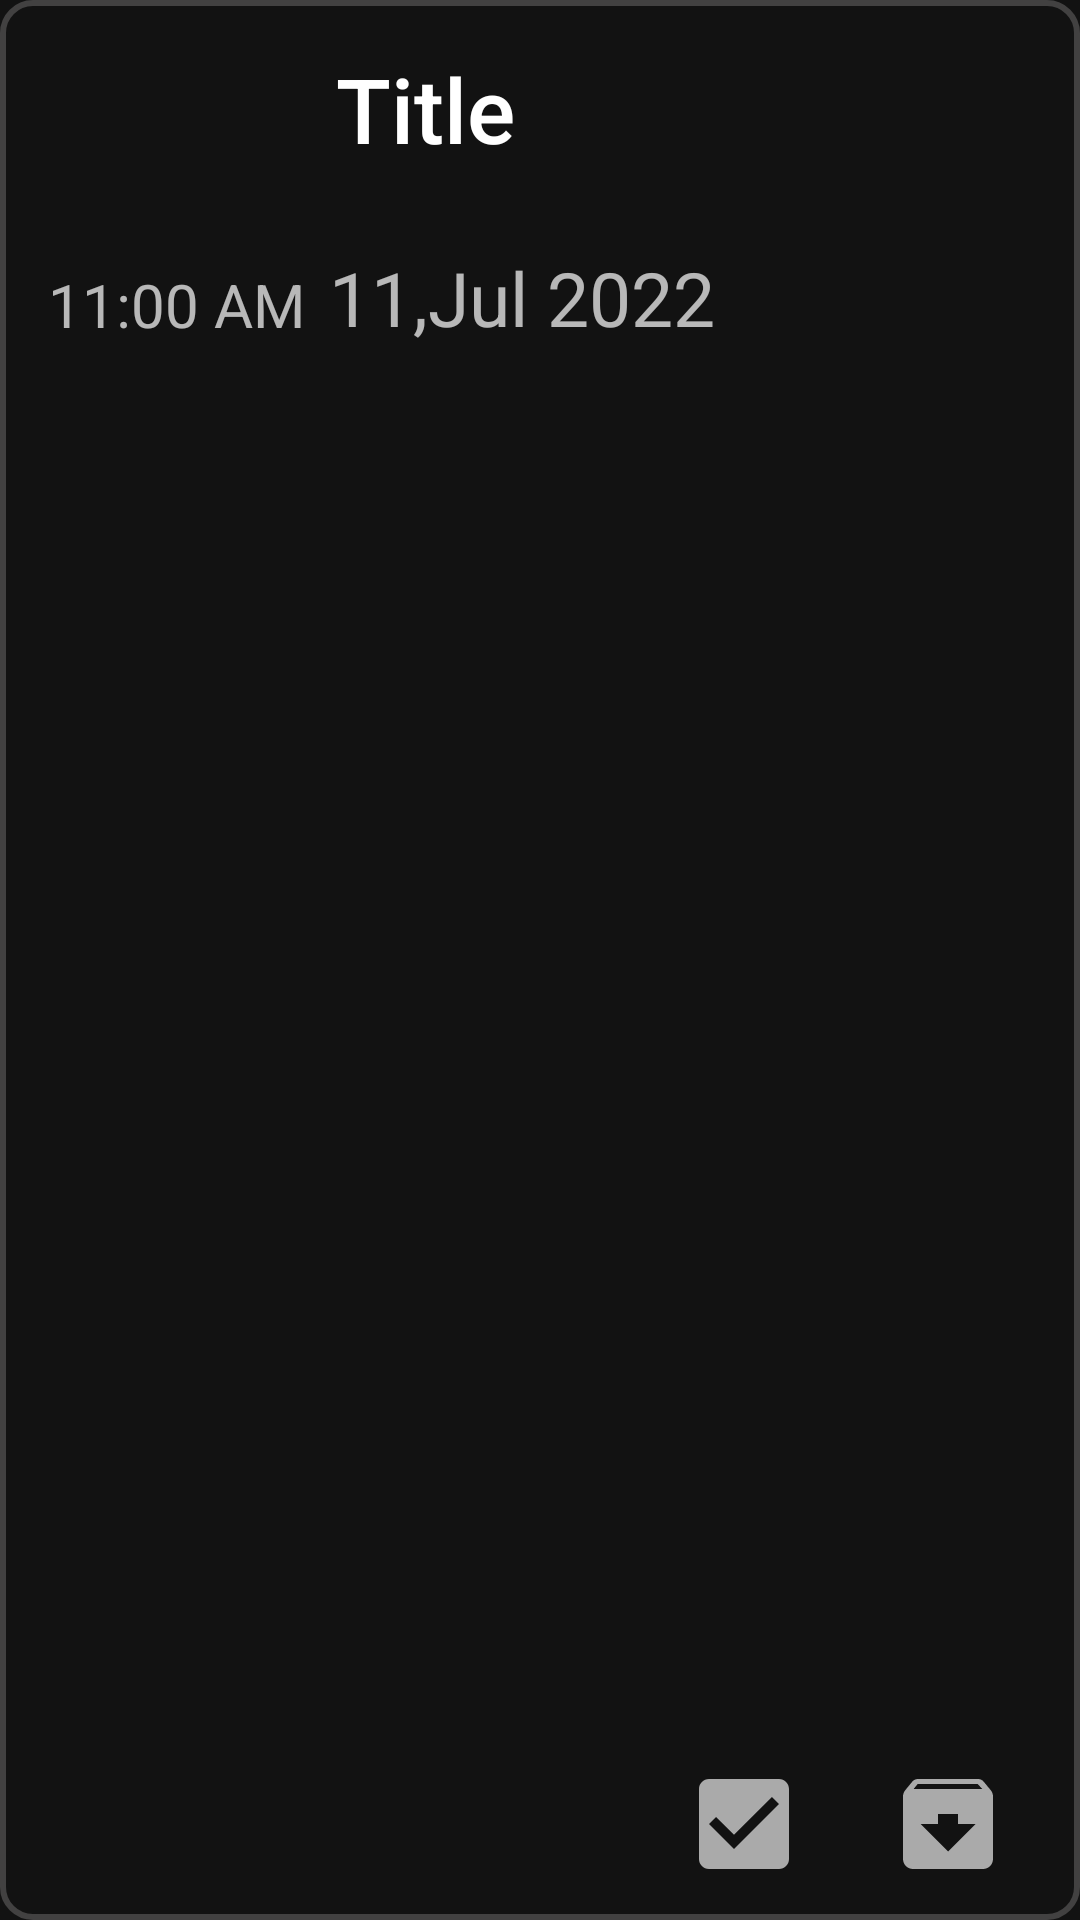

Icons on this 1080px×1920px Android screen, each with the point to tap as (x,y):
archive: (948,1824)
check box: (744,1824)
